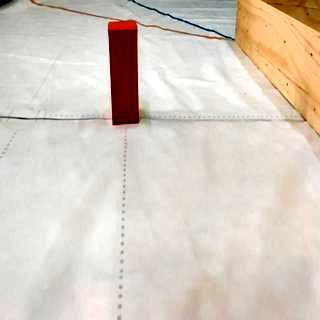redbox: (107, 18, 139, 126)
